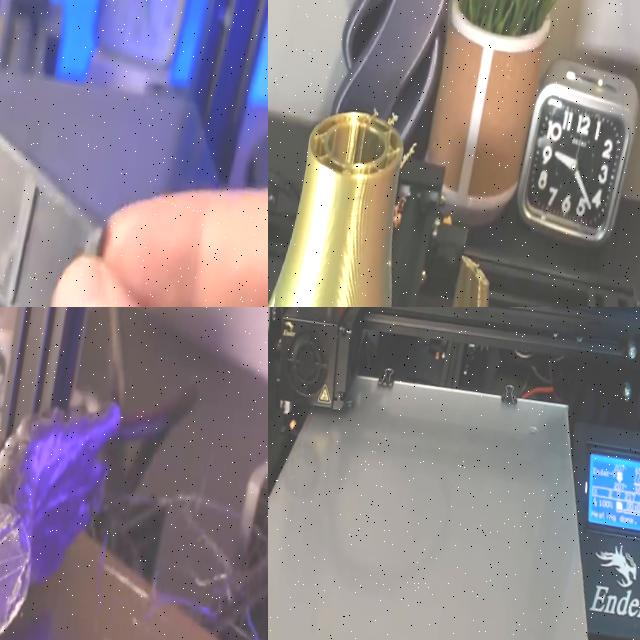spaghetti: (58, 430, 268, 640), (357, 90, 427, 180)
